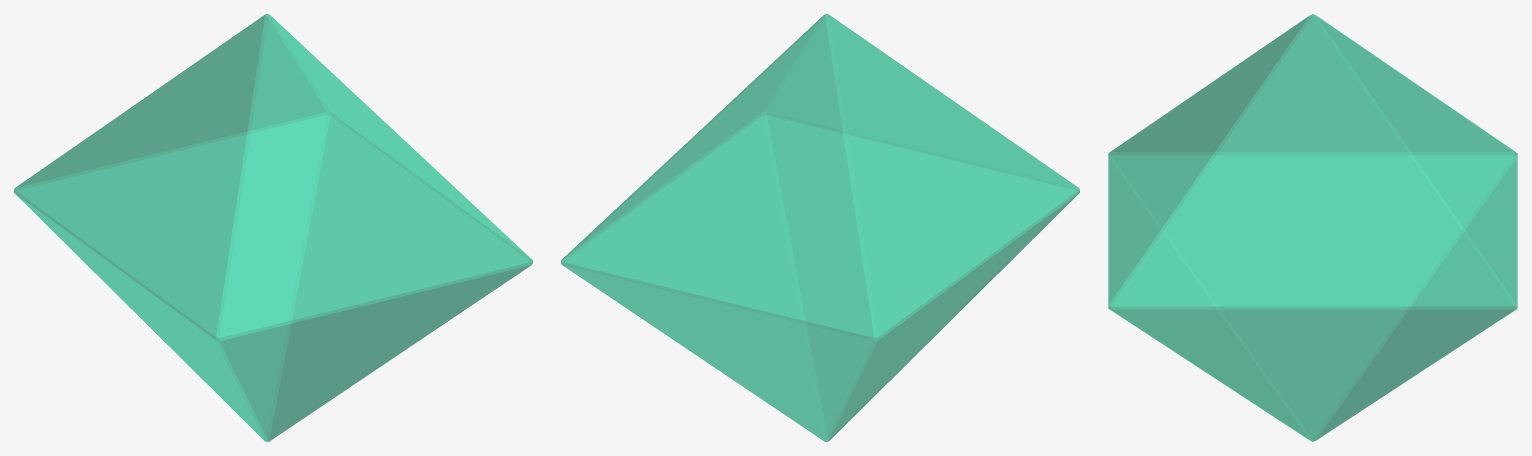
File: nav-jewel-green.dae
3 views of the same model, side by side, from view 1: azimuth 30°, elevation 25°; view 2: azimuth 150°, elevation 25°; view 3: azimuth 270°, elevation 25° (orthographic).
Parts seen in each view (by area): view 1: polySurface1808; view 2: polySurface1808; view 3: polySurface1808.
Part boxes in pixels (x1,y1,x2,y2): polySurface1808: (14,14,532,441); polySurface1808: (561,14,1079,441); polySurface1808: (1108,14,1517,441).
Size of the model in its own units: 0.188 by 0.2418 by 0.2106.
